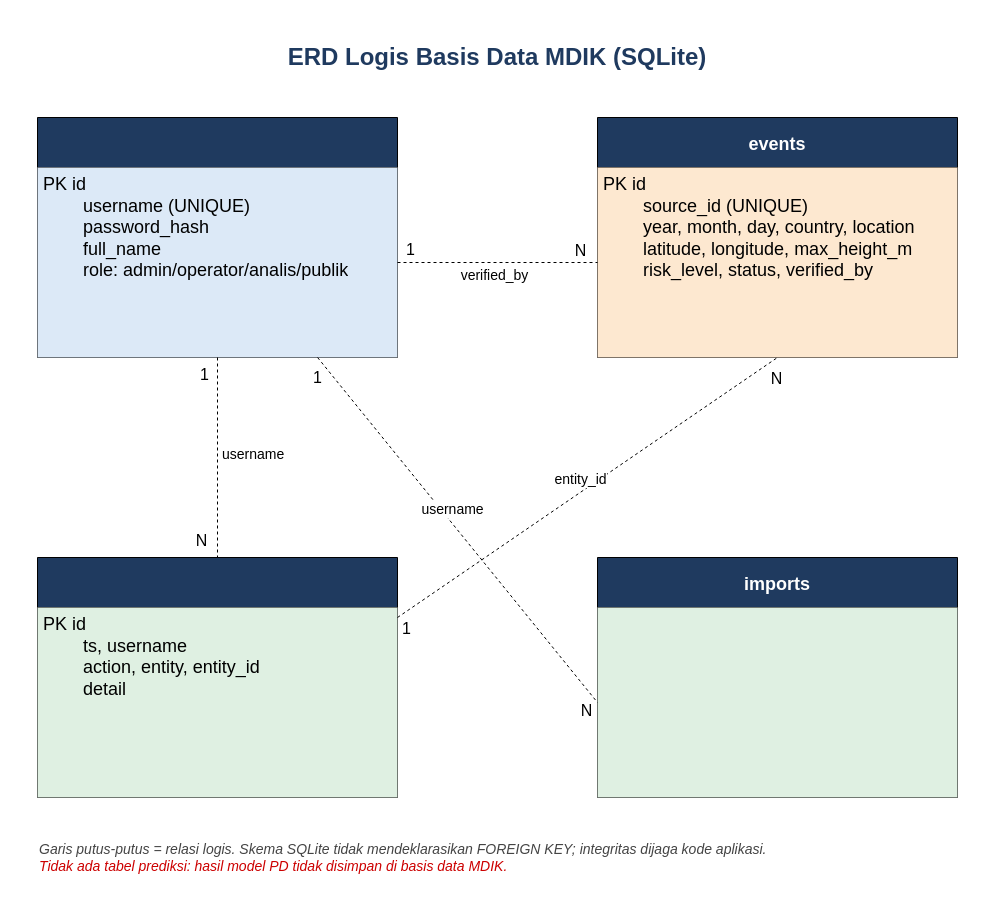
Image size: 994x914. Some labels were removed from this diagram. Each missing label, with the box of its shape:
audit_log: (36, 556, 398, 798)
PK id ts, username filename rows_total, rows_imported, rows_skipped: (597, 607, 957, 797)
users: (36, 116, 398, 358)
